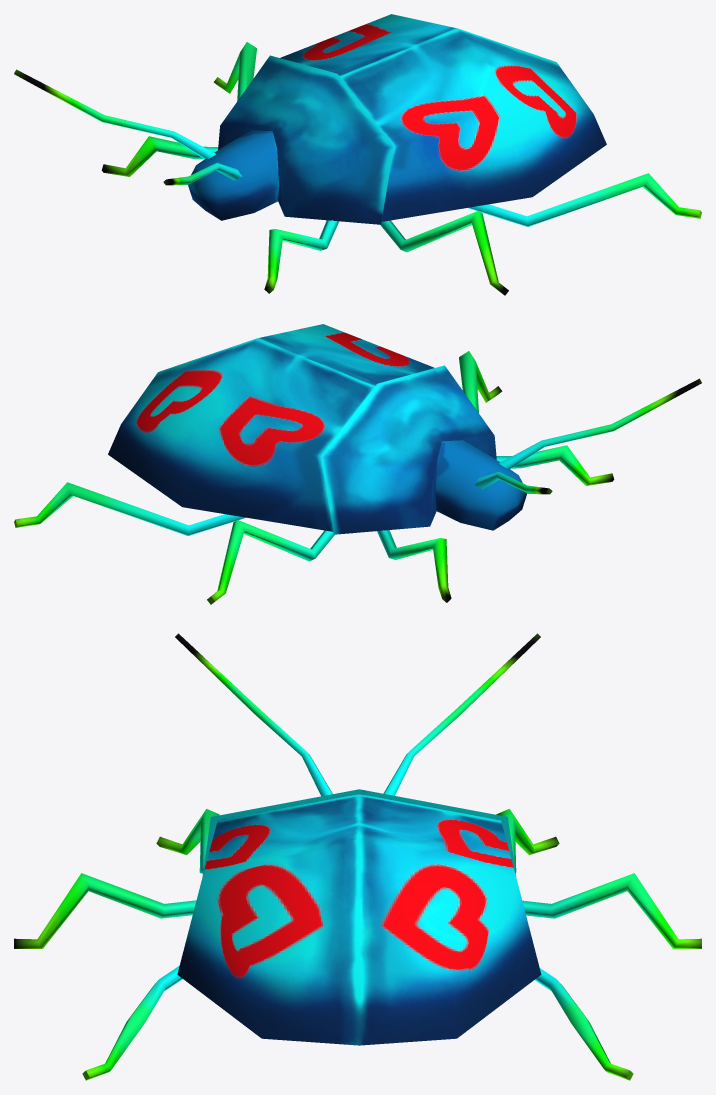
The picture shows the model from 3 angles, top to bottom: view 1: azimuth 30°, elevation 25°; view 2: azimuth 150°, elevation 25°; view 3: azimuth 270°, elevation 25°; orthographic projection. The views are drawn at different scales.
Visible parts, largest first — view 1: Bug_1; view 2: Bug_1; view 3: Bug_1.
Part boxes in pixels (<box>): Bug_1: <box>14,14,701,295</box>; Bug_1: <box>14,324,701,604</box>; Bug_1: <box>14,633,701,1080</box>.
Size of the model in its own units: 53.78 by 14.15 by 53.45.
